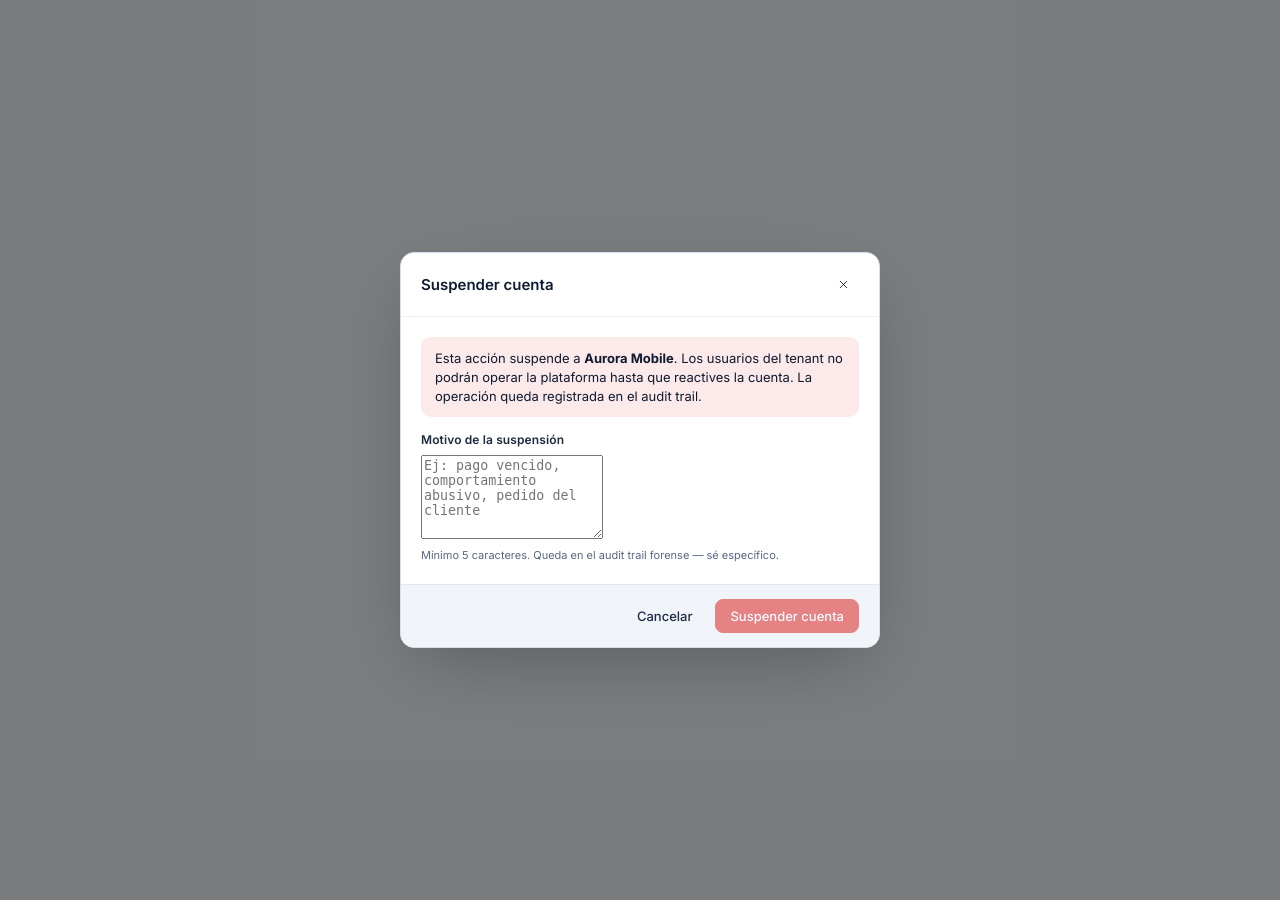
Test case: SuspendTenantModal › botón "Suspender cuenta" disabled hasta que reason tenga >= 5 chars
Check: the button "Suspender cuenta" is disabled, box x1=716 y1=599 x2=859 y2=633
Type "1234" into the text box with placeholder "pago vencido" at (512, 497), box x1=421 y1=455 x2=603 y2=539
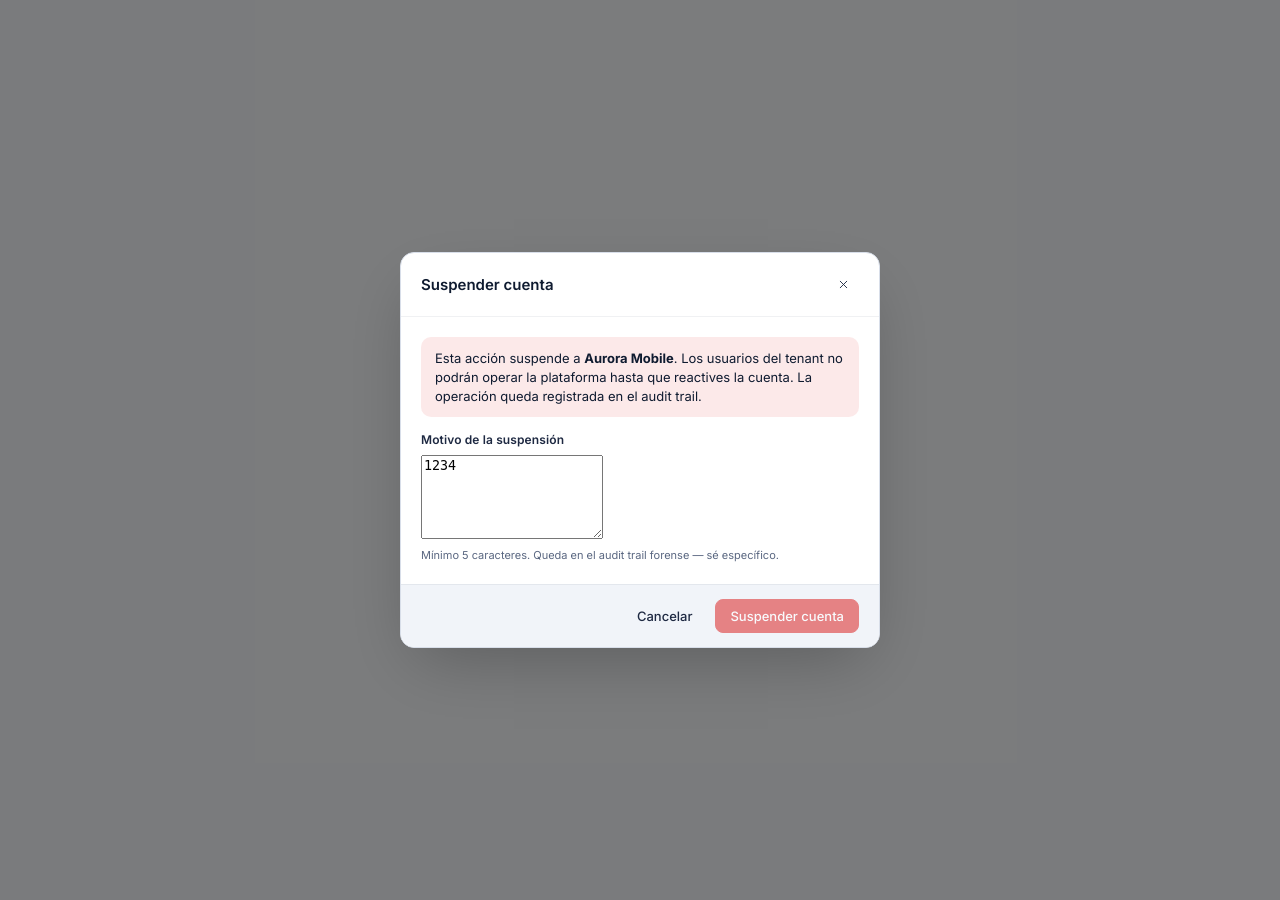
Check: the button "Suspender cuenta" is disabled, box x1=716 y1=599 x2=859 y2=633
Replace the text in the text box with placeholder "pago vencido" with "12345" at (512, 497), box x1=421 y1=455 x2=603 y2=539
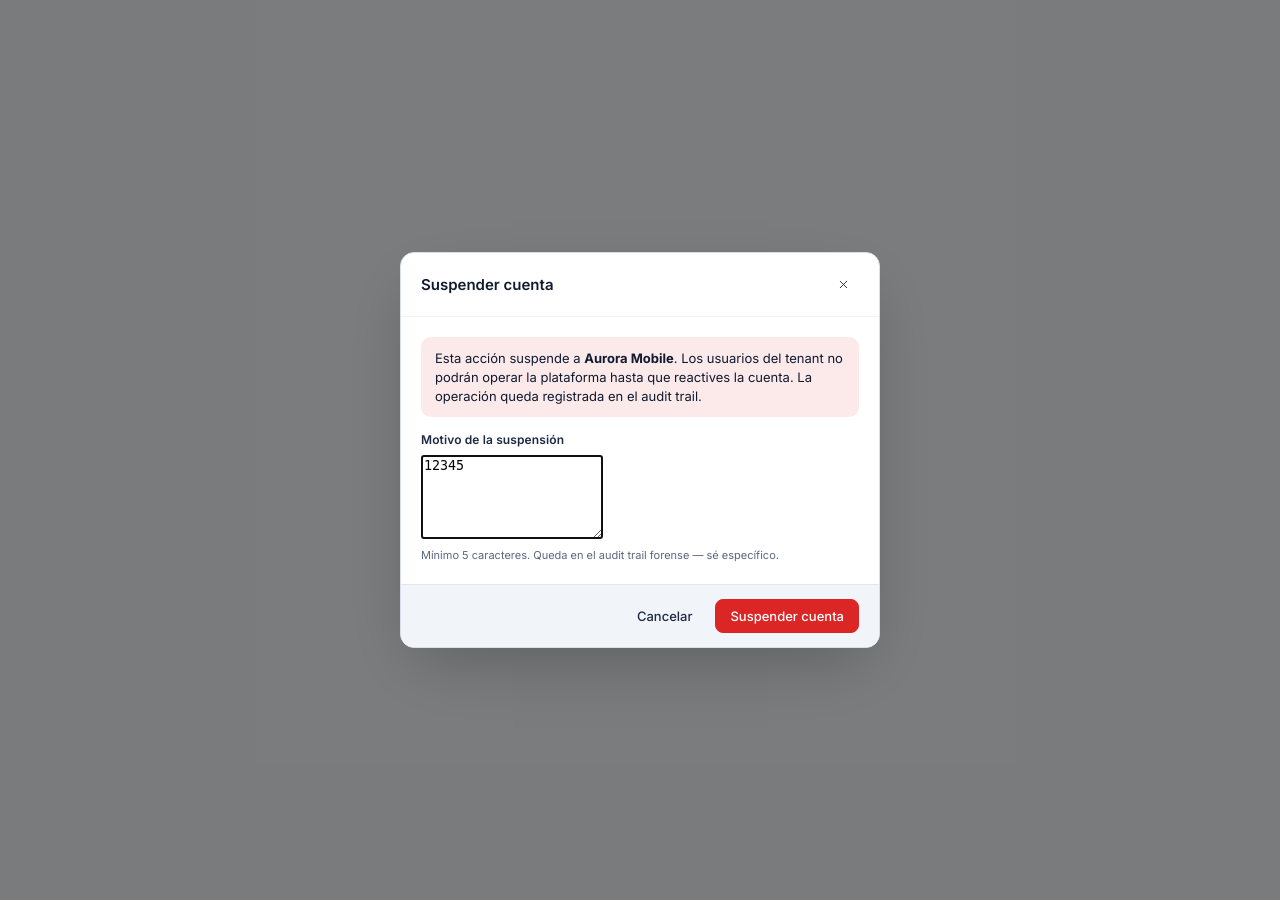
Check: the button "Suspender cuenta" is enabled, box x1=716 y1=599 x2=859 y2=633
